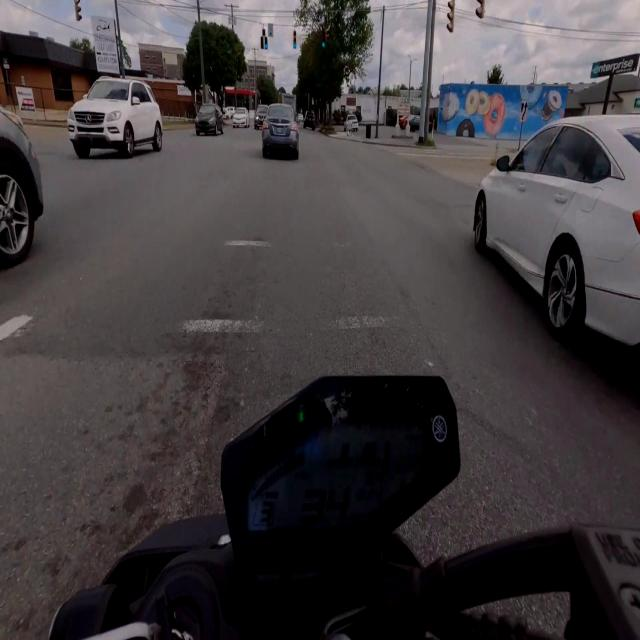car: (474, 115, 639, 344), (68, 78, 162, 158), (0, 107, 43, 268), (262, 104, 299, 159), (195, 104, 223, 135), (232, 108, 249, 127), (255, 105, 267, 129), (344, 114, 358, 131), (304, 111, 315, 130), (297, 112, 304, 123)
motorcycle: (50, 377, 639, 639)
